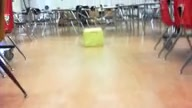cube: (82, 28, 104, 47)
